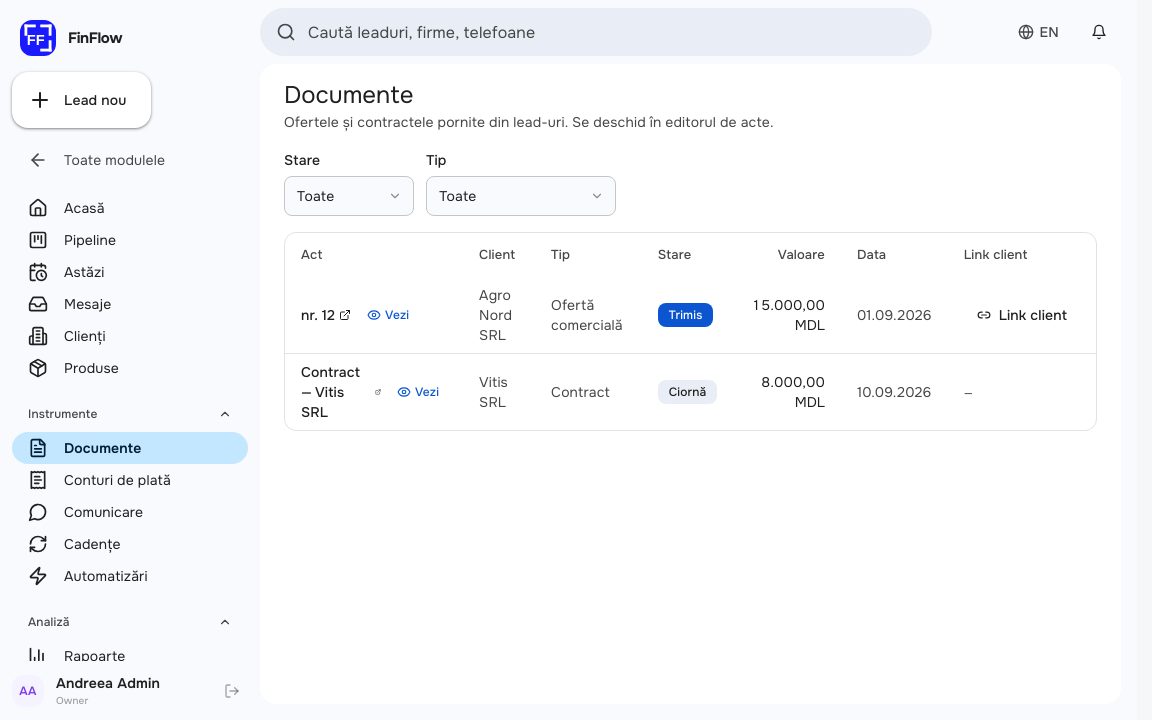
Test case: Lista de oferte și contracte › filtrul pe stare separă ciornele de ce a plecat deja la client
The width and height of the screenshot is (1152, 720).
Expected: the text "Agro Nord SRL" is shown, [463,277,535,354]
Select "Ciornă" in the dropdown labelled "Stare" at {"x": 349, "y": 196}, box [284,176,414,216]
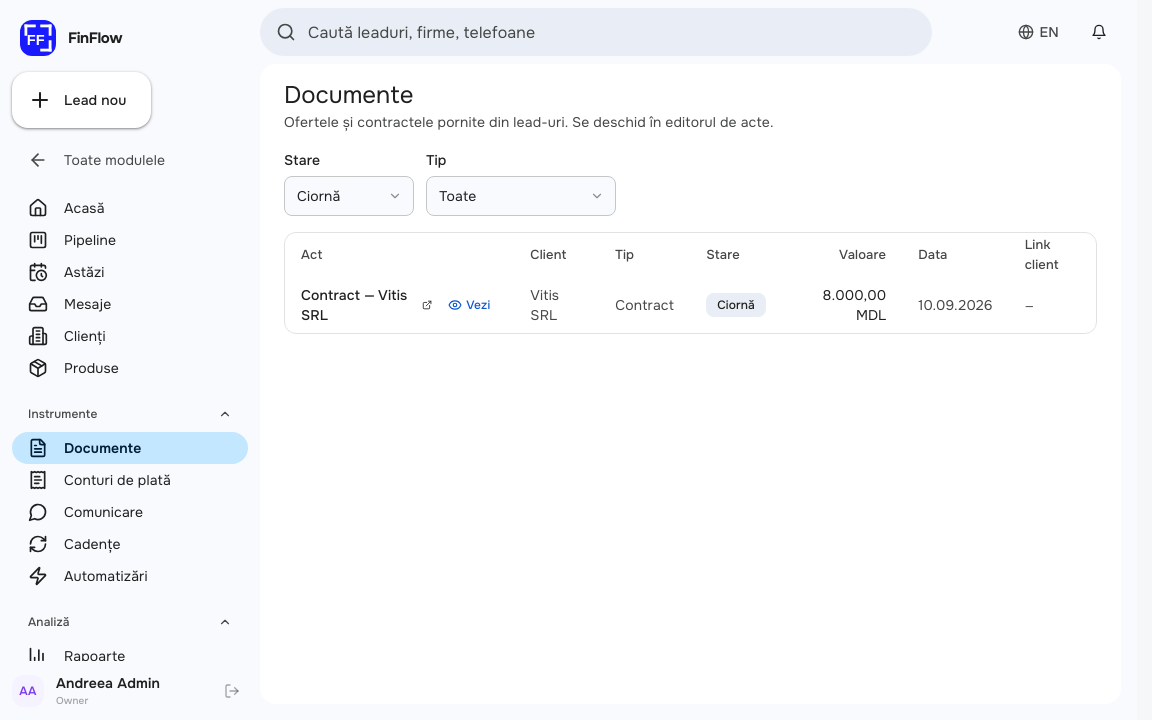
Expected: the text "Vitis SRL" is shown, [514,277,599,333]
Now the text "Agro Nord SRL" is gone
